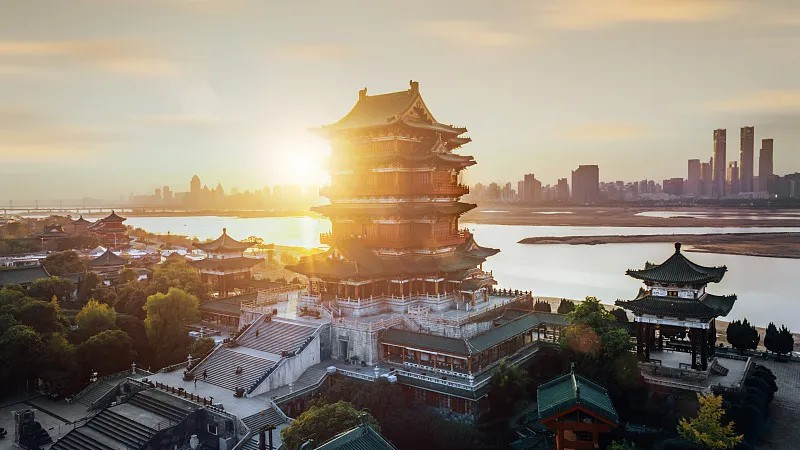Teng: (284, 82, 501, 296)
